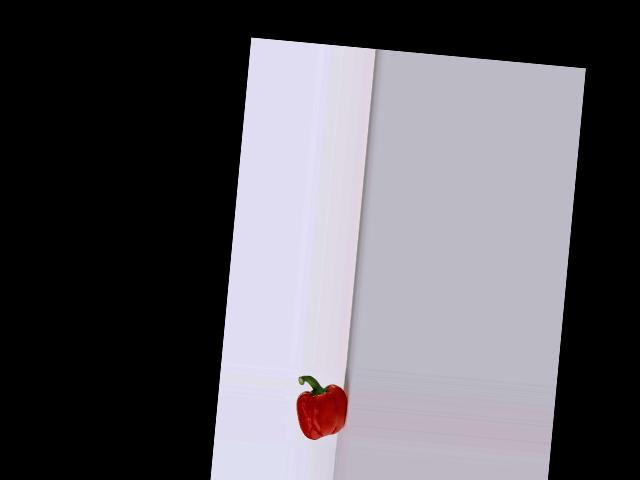bell_pepper: (290, 368, 352, 445)
